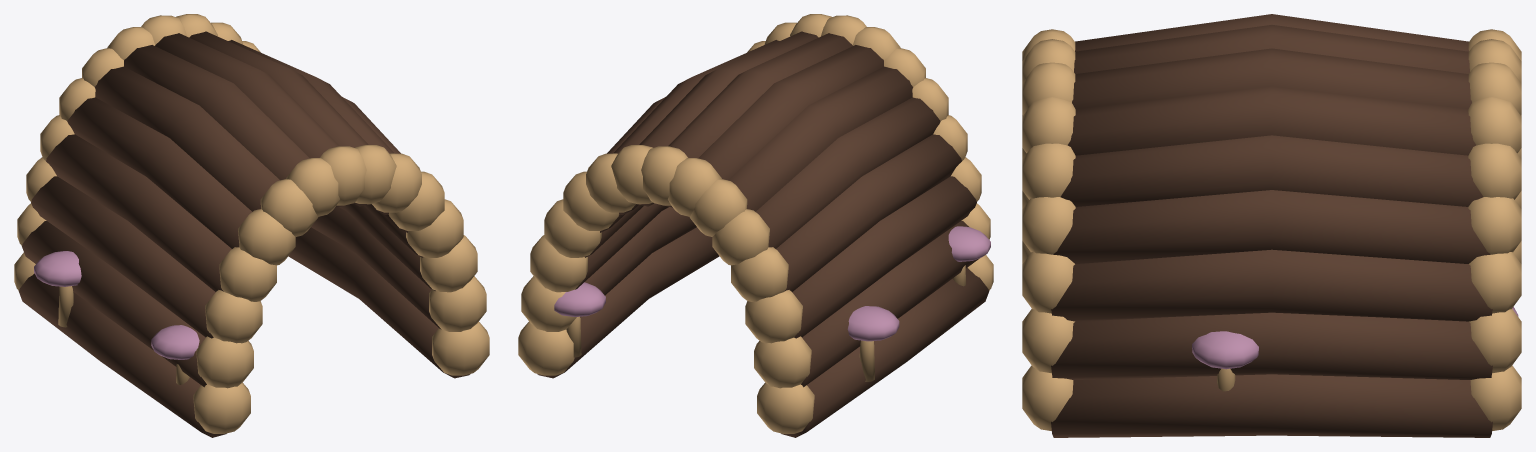
The model's file is discovery_rootlight.glb.
3 renders of one model, left to right at view 1: azimuth 30°, elevation 25°; view 2: azimuth 150°, elevation 25°; view 3: azimuth 270°, elevation 25°, orthographic. The views are drawn at different scales.
Parts seen in each view (by area): view 1: discovery_rootlight_part_0; view 2: discovery_rootlight_part_0; view 3: discovery_rootlight_part_0.
Part boxes in pixels (x1,y1,x2,y2): discovery_rootlight_part_0: [14, 14, 489, 437]; discovery_rootlight_part_0: [518, 14, 993, 437]; discovery_rootlight_part_0: [1022, 14, 1521, 437].
Size of the model in its own units: 5.4 by 3.99 by 5.45.
